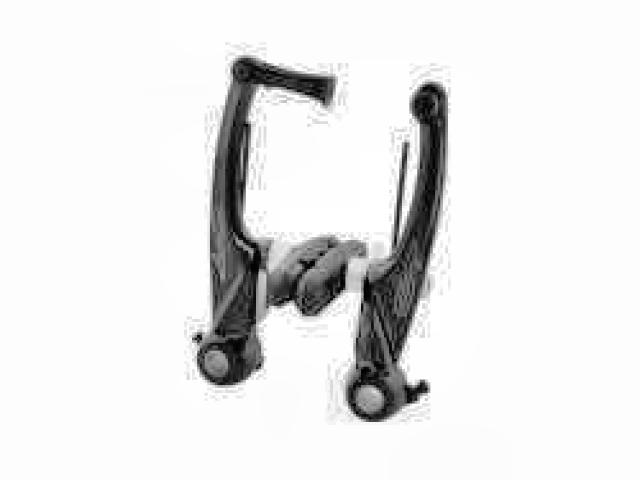rim_brake: (190, 53, 449, 423)
